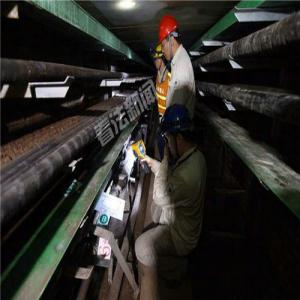blue: (162, 104, 193, 158)
red: (159, 16, 180, 63)
yellow: (153, 45, 166, 70)
